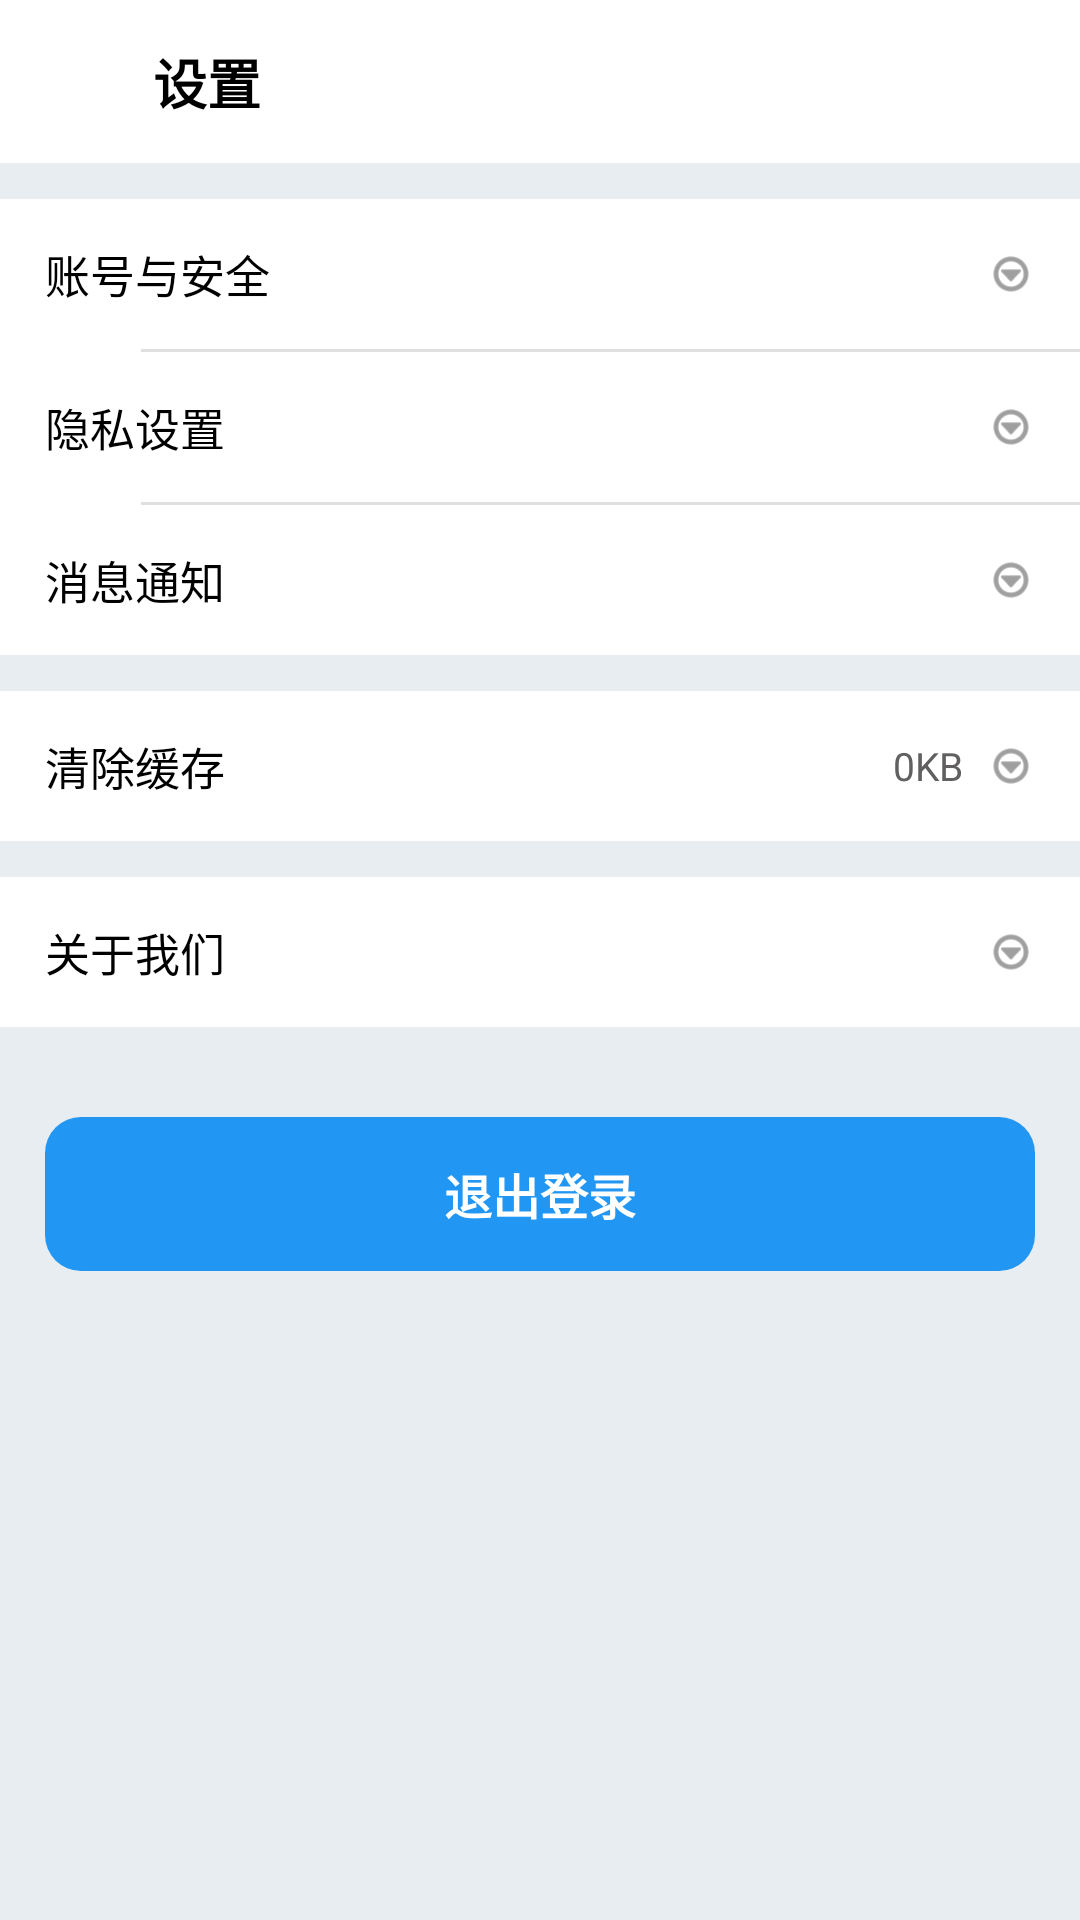

Where icons sit on this 1080 x 1920 app screen, as (x1, y1, x2, y2):
more: (993, 256, 1029, 292), (993, 409, 1029, 445), (993, 562, 1029, 598), (993, 748, 1029, 784), (993, 934, 1029, 970)
